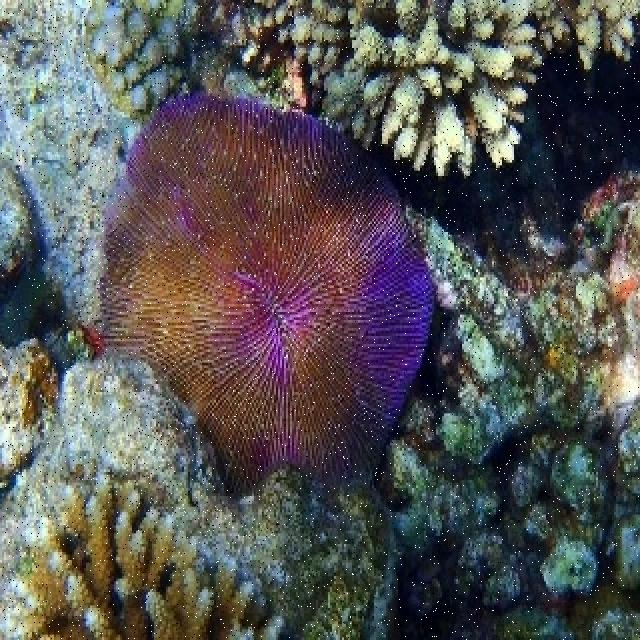reefs: (84, 94, 434, 539), (205, 0, 638, 180), (18, 469, 288, 637)
